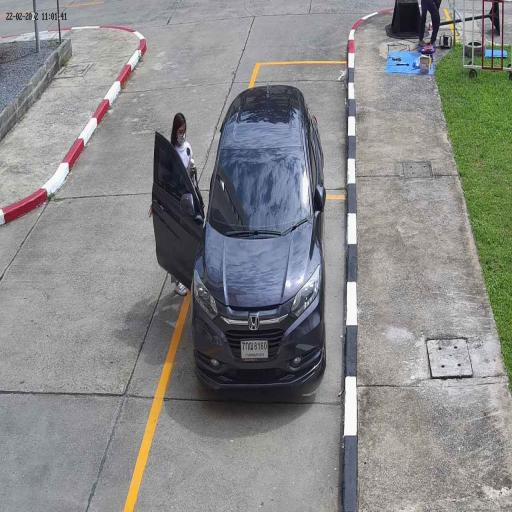car: (190, 82, 327, 392)
